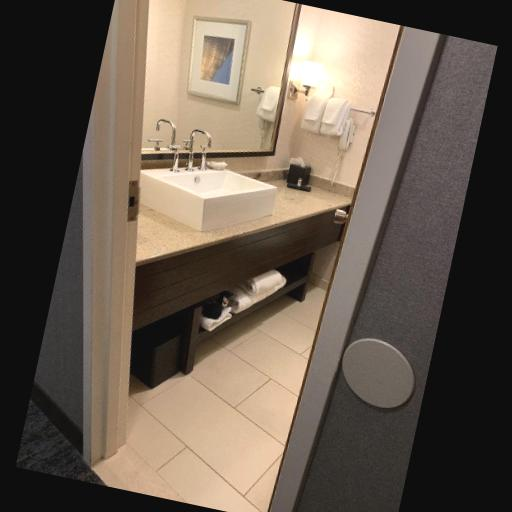clean_floor: (96, 279, 331, 512)
clean_sink: (123, 151, 362, 336)
folded_towel: (199, 263, 290, 339)
organised_pillow: (299, 91, 353, 139)
